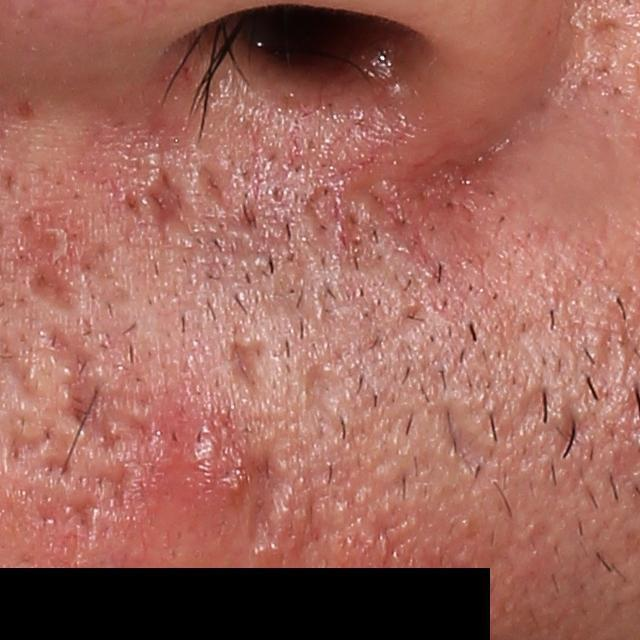atrophic_scar: (436, 400, 513, 478), (236, 447, 282, 557), (79, 386, 149, 458), (2, 413, 61, 477), (556, 396, 601, 465), (508, 385, 556, 442), (36, 495, 98, 539), (147, 167, 186, 235), (23, 267, 77, 312), (225, 339, 263, 398), (199, 158, 233, 205), (41, 457, 72, 477)
hypertrophic_scar: (4, 91, 107, 205)
